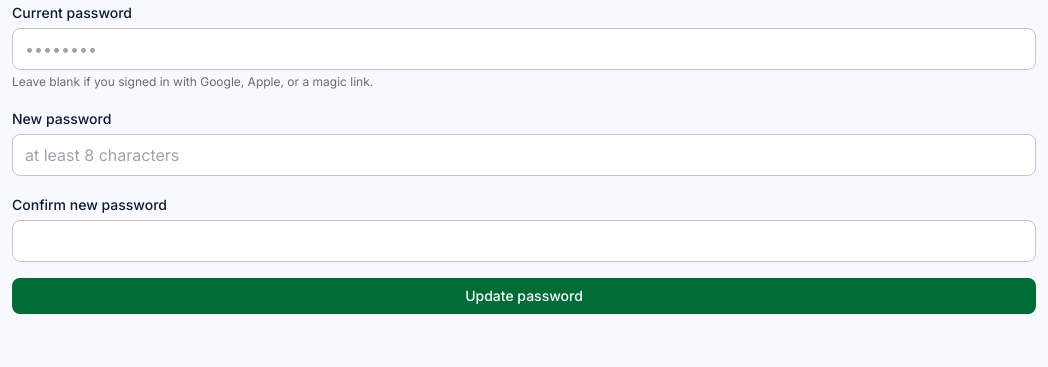
Scenario: ChangePasswordForm › blocks reuse of the current password as the new password
This screenshot has width=1048, height=367.
Type "coral1234" into the password field with id "current-password" at [524, 49], box [12, 28, 1036, 70]
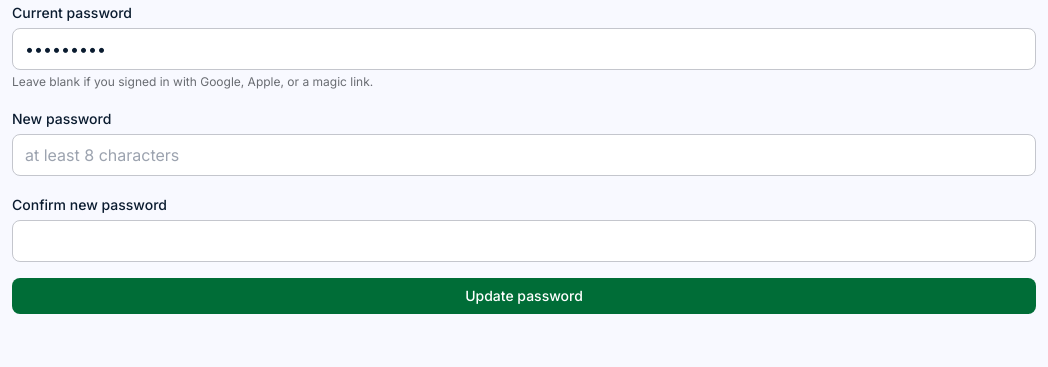
Type "coral1234" into the password field with id "new-password" at [524, 155], box [12, 134, 1036, 176]
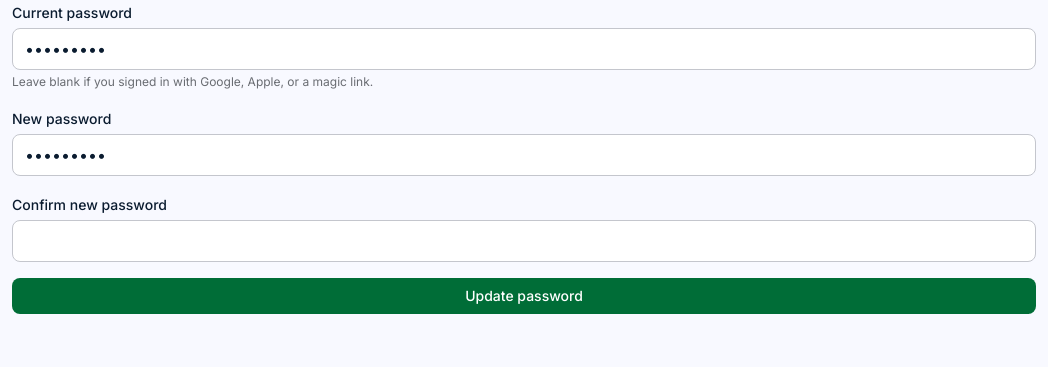
Type "coral1234" into the password field with id "confirm-password" at [524, 241], box [12, 220, 1036, 262]
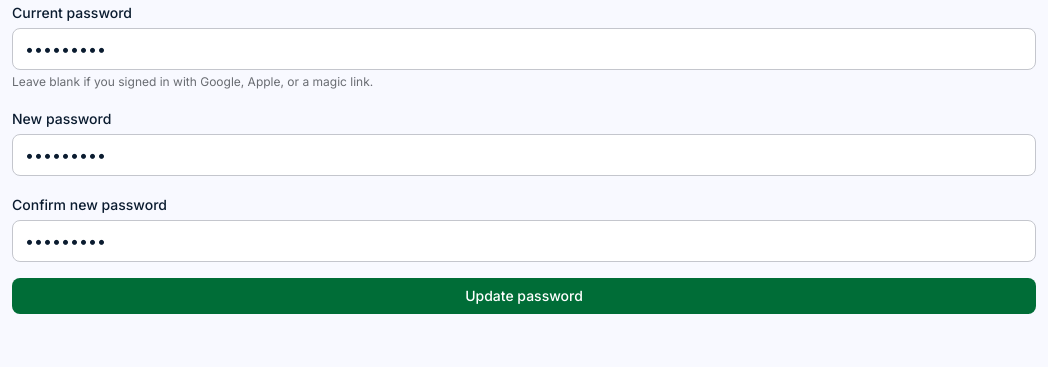
Submit the form
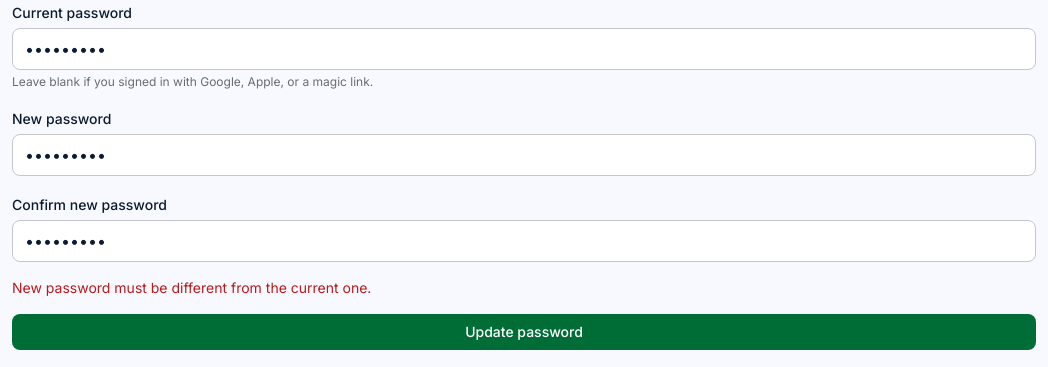
Check: the form shows "New password must be different from the current one.", box [12, 279, 371, 296]
